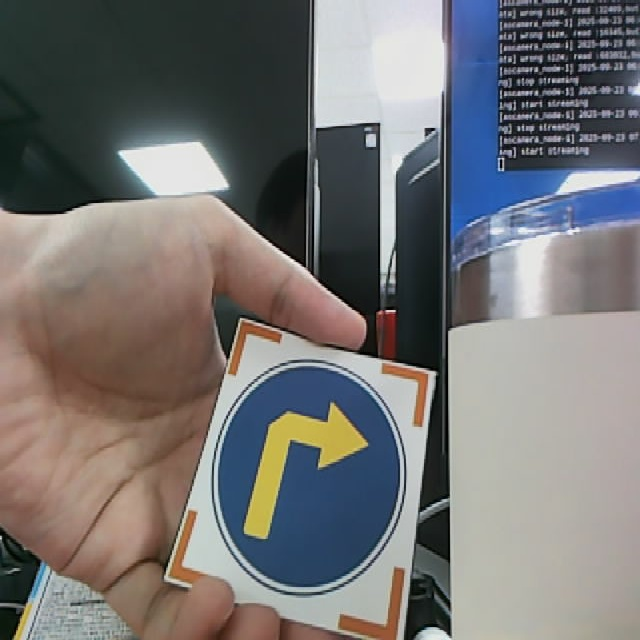right: (164, 318, 441, 640)
